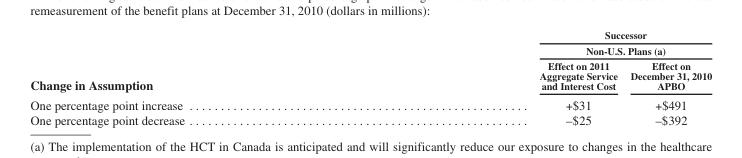table: (29, 29, 711, 127)
table column: (29, 29, 361, 127), (361, 29, 623, 127), (623, 29, 711, 127)
table column header: (29, 29, 711, 94)
table row: (29, 57, 711, 94), (29, 29, 711, 57), (29, 94, 711, 112), (29, 112, 711, 127)
table spanning cell: (29, 29, 361, 94), (361, 29, 711, 57)
